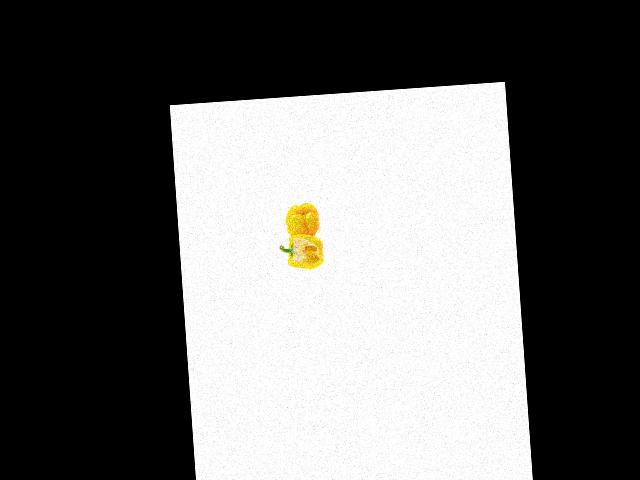bell_pepper: (277, 225, 332, 273)
